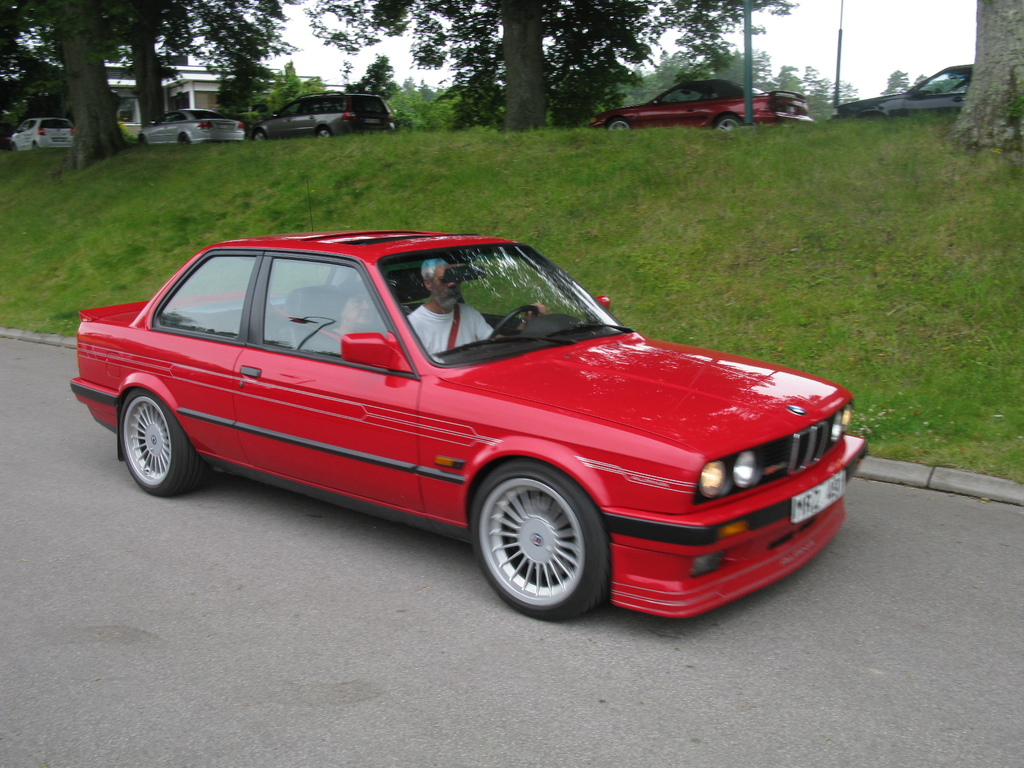Car: (73, 227, 872, 629), (588, 78, 807, 135), (829, 62, 976, 115), (252, 92, 395, 138), (136, 107, 247, 144), (10, 118, 74, 149)
